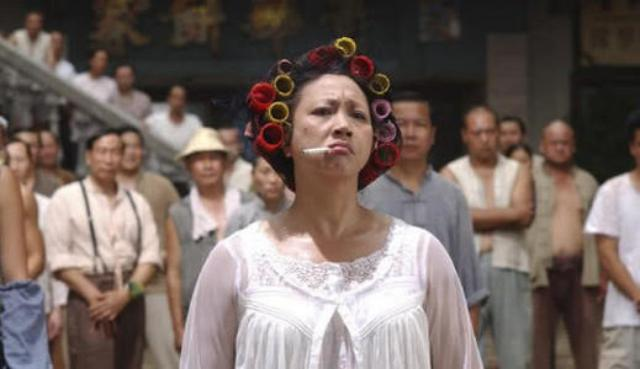SafeDriving: (309, 100, 338, 120)
Smoking: (296, 146, 332, 162)
